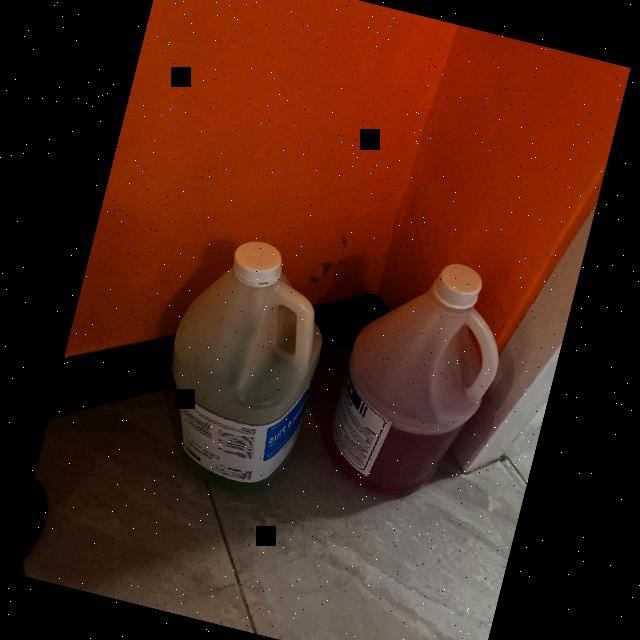chemical_plastic_gallon: (294, 237, 530, 526), (132, 222, 351, 518)
